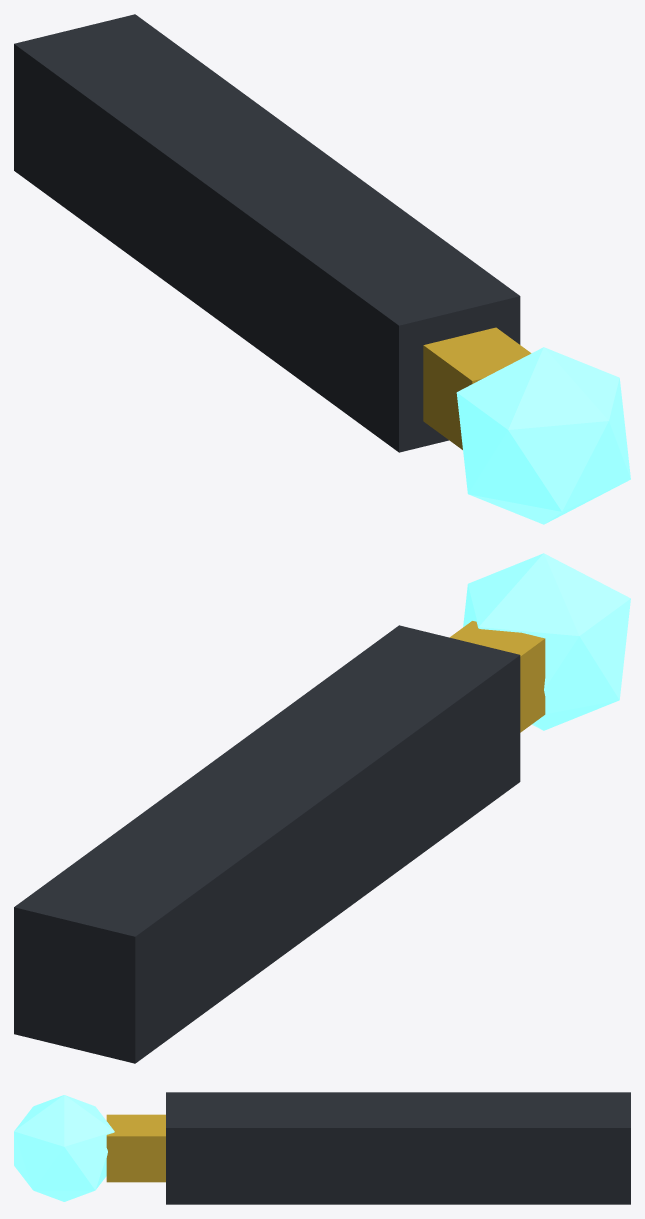
Rendered from tool_torch.glb.
3 views of the same model, one above another, from view 1: azimuth 30°, elevation 25°; view 2: azimuth 150°, elevation 25°; view 3: azimuth 270°, elevation 25° (orthographic). The views are drawn at different scales.
Visible parts, largest first — view 1: tool_torch; view 2: tool_torch; view 3: tool_torch.
Boxes of the visible parts, box(x1,y1,x2,y2) form: tool_torch: box(14, 14, 630, 524); tool_torch: box(14, 553, 630, 1063); tool_torch: box(14, 1092, 630, 1204).
Bounding box in the file's own units: 0.1252 × 0.14 × 0.7295.
